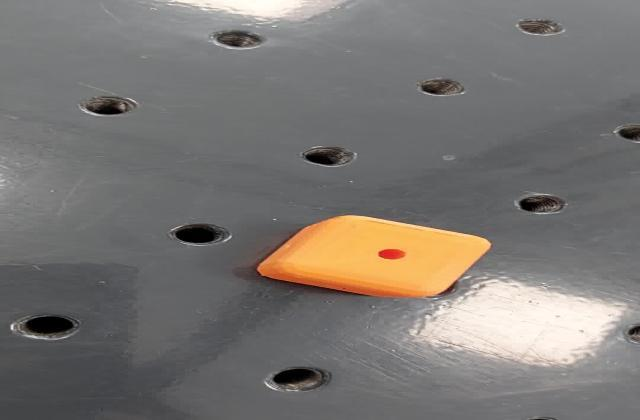cube: (252, 212, 495, 300)
